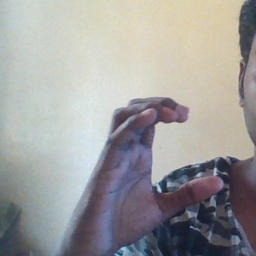C: (104, 83, 230, 223)
